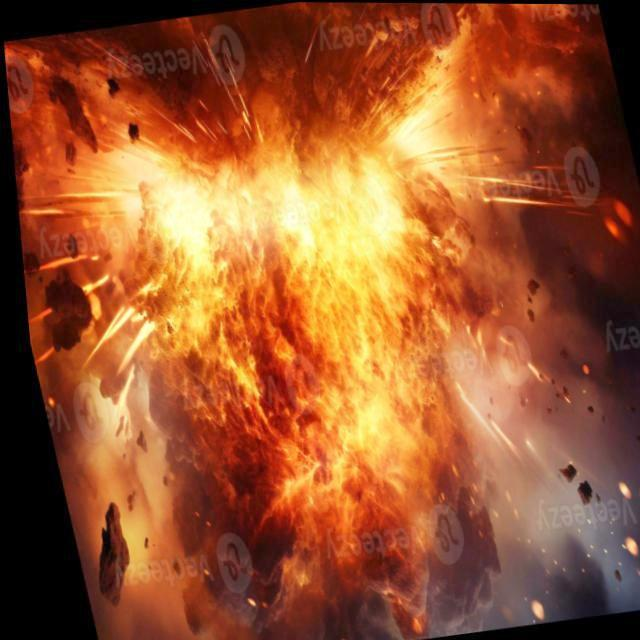fire: (100, 109, 504, 519)
